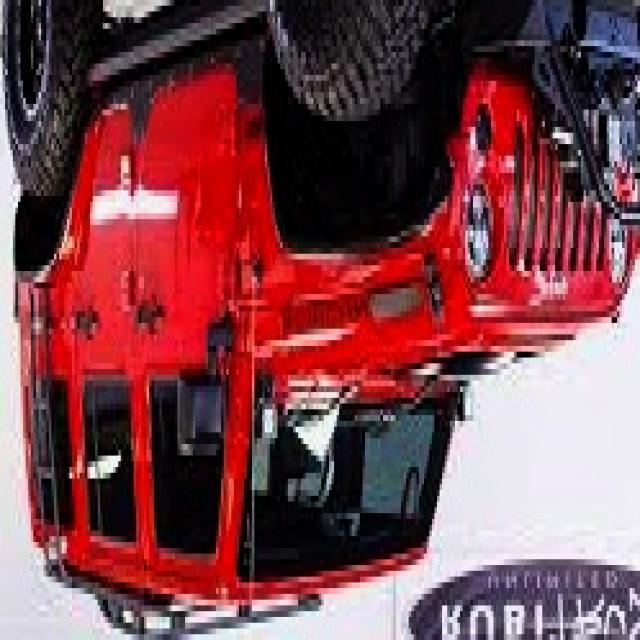red: (15, 0, 640, 629)
